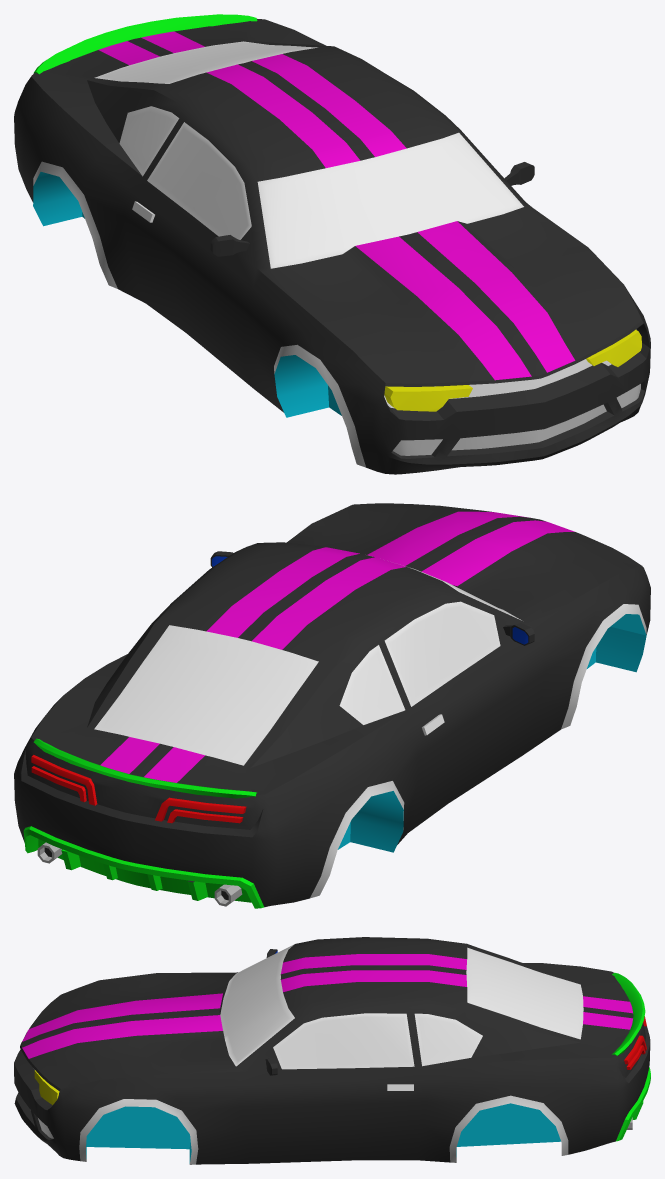
File: Car_Body.fbx
The picture shows the model from 3 angles, top to bottom: view 1: azimuth 30°, elevation 25°; view 2: azimuth 150°, elevation 25°; view 3: azimuth 270°, elevation 25°; orthographic projection. The views are drawn at different scales.
Parts seen in each view (by area): view 1: Body; view 2: Body; view 3: Body.
Boxes of the visible parts, <box> form: Body: <box>14,14,650,474</box>; Body: <box>14,503,650,908</box>; Body: <box>14,937,650,1164</box>.
Bounding box in the file's own units: 199 × 115 × 452.
